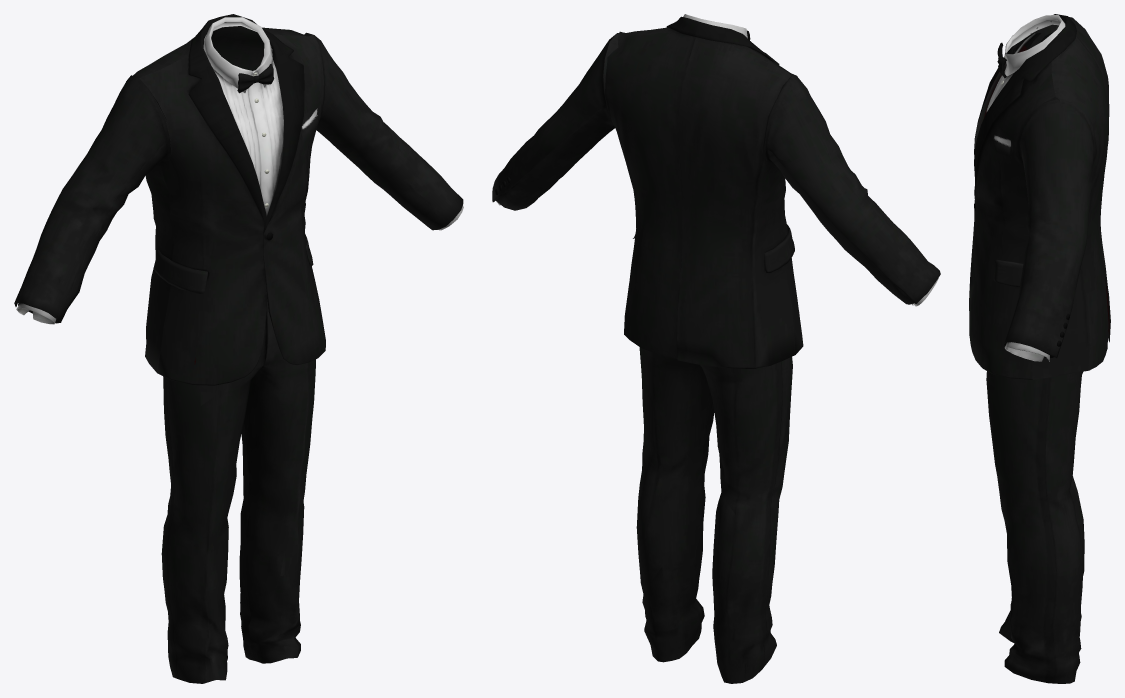
File: black-suit.glb
3 renders of one model, left to right at view 1: azimuth 30°, elevation 25°; view 2: azimuth 150°, elevation 25°; view 3: azimuth 270°, elevation 25°, orthographic.
Visible parts, largest first — view 1: 3DGeom-1; view 2: 3DGeom-1; view 3: 3DGeom-1.
Part boxes in pixels (x1=…): 3DGeom-1: x1=14, y1=14, x2=463, y2=683; 3DGeom-1: x1=492, y1=14, x2=940, y2=683; 3DGeom-1: x1=969, y1=14, x2=1110, y2=683.
Size of the model in its own units: 112 by 159 by 31.6.
1 material, 1 textured.
